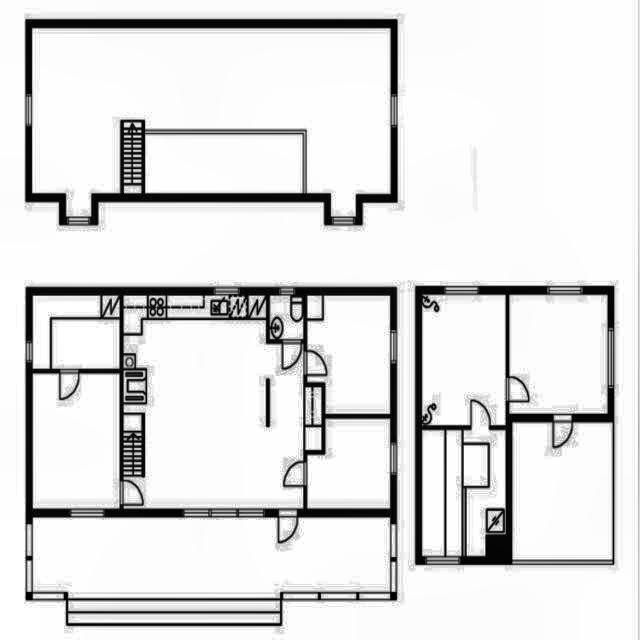room: (512, 424, 612, 559), (509, 296, 607, 413), (34, 375, 119, 508), (422, 295, 506, 425), (422, 430, 506, 555), (307, 295, 390, 414), (308, 420, 389, 508), (33, 297, 118, 367), (270, 296, 303, 339)
